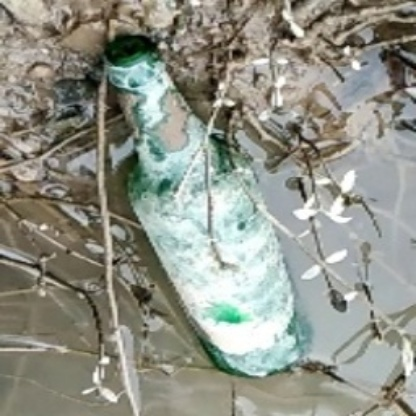bottle: (99, 31, 320, 381)
